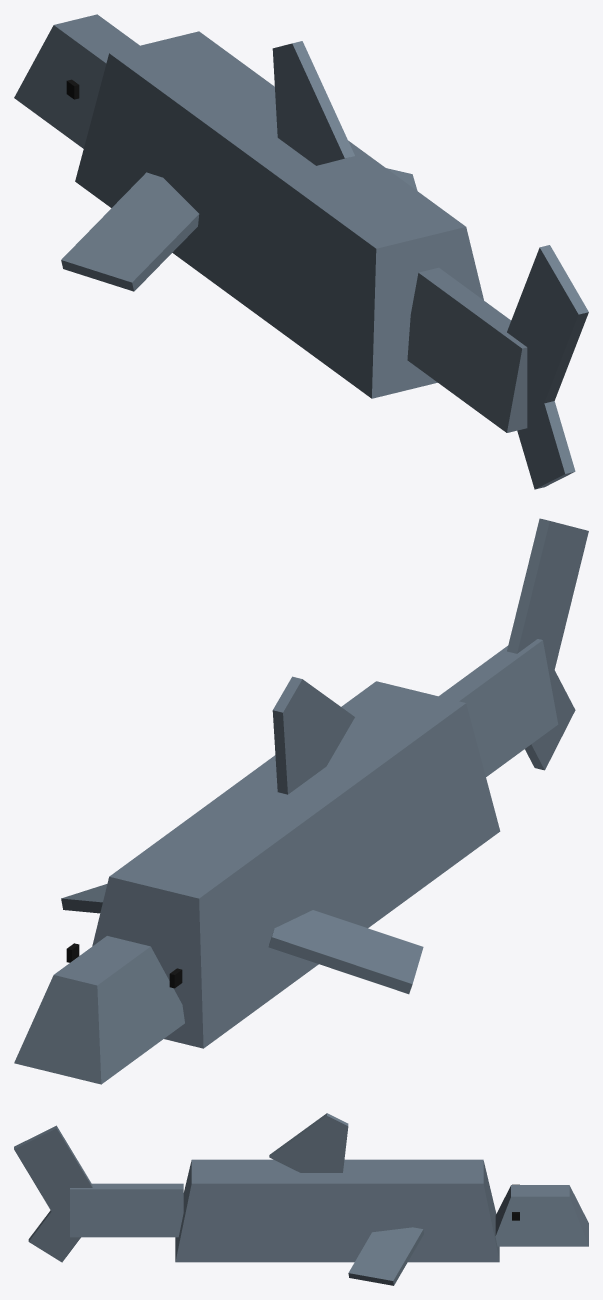
File: shark.glb
3 renders of one model, top to bottom at view 1: azimuth 30°, elevation 25°; view 2: azimuth 150°, elevation 25°; view 3: azimuth 270°, elevation 25°, orthographic. The views are drawn at different scales.
Parts seen in each view (by area): view 1: shark_Body, shark_Tail; view 2: shark_Body, shark_Tail; view 3: shark_Body, shark_Tail.
Boxes of the visible parts, x1,y1,x2,y2 form: shark_Body: (14,14,483,398); shark_Tail: (407,245,588,489); shark_Body: (14,676,500,1084); shark_Tail: (439,518,588,776); shark_Body: (175,1113,588,1285); shark_Tail: (14,1125,183,1262).
Bounding box in the file's own units: 1.37 × 0.9994 × 3.55.
